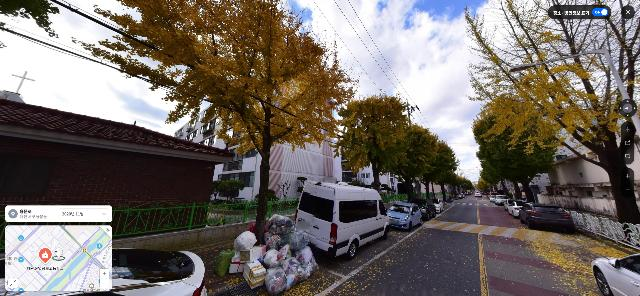ginkgo: (77, 1, 358, 246), (461, 1, 640, 224), (328, 92, 416, 191)
other: (329, 92, 464, 200), (472, 107, 557, 204), (398, 124, 436, 200), (427, 140, 460, 201)
